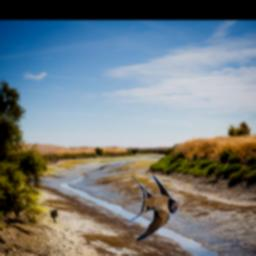Swallow: (127, 175, 180, 242)
